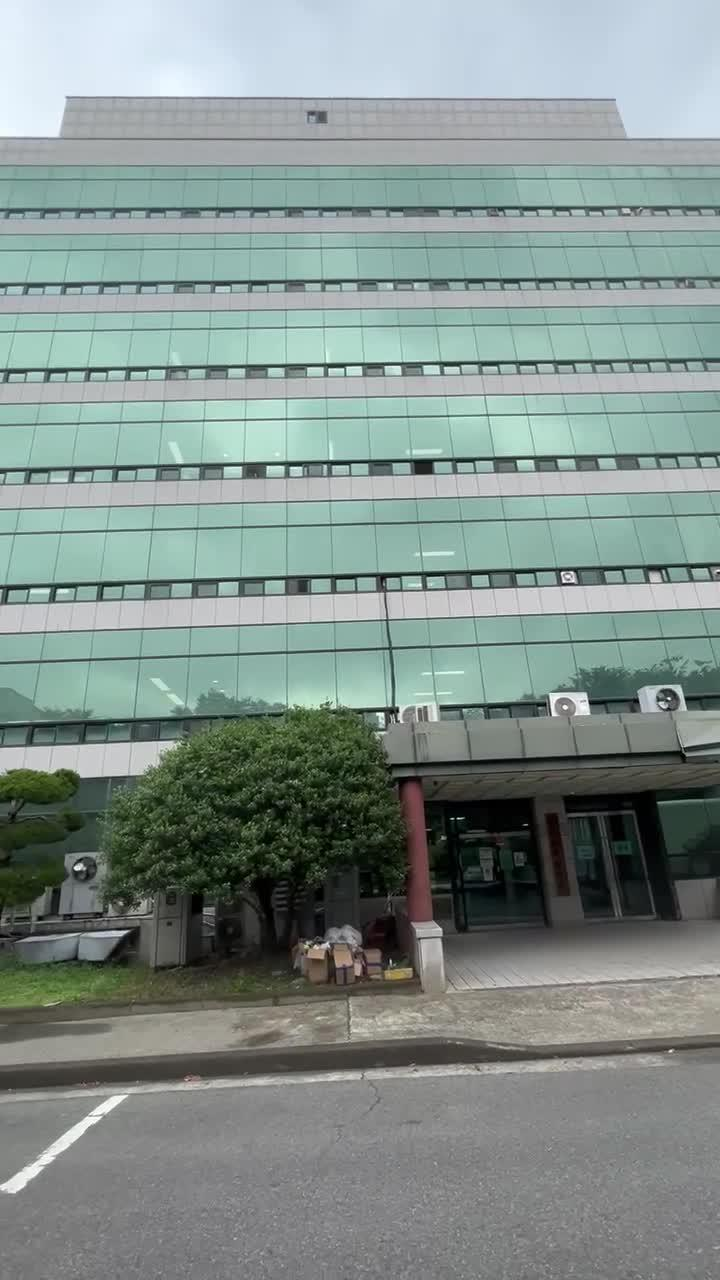building: (58, 94, 700, 694)
